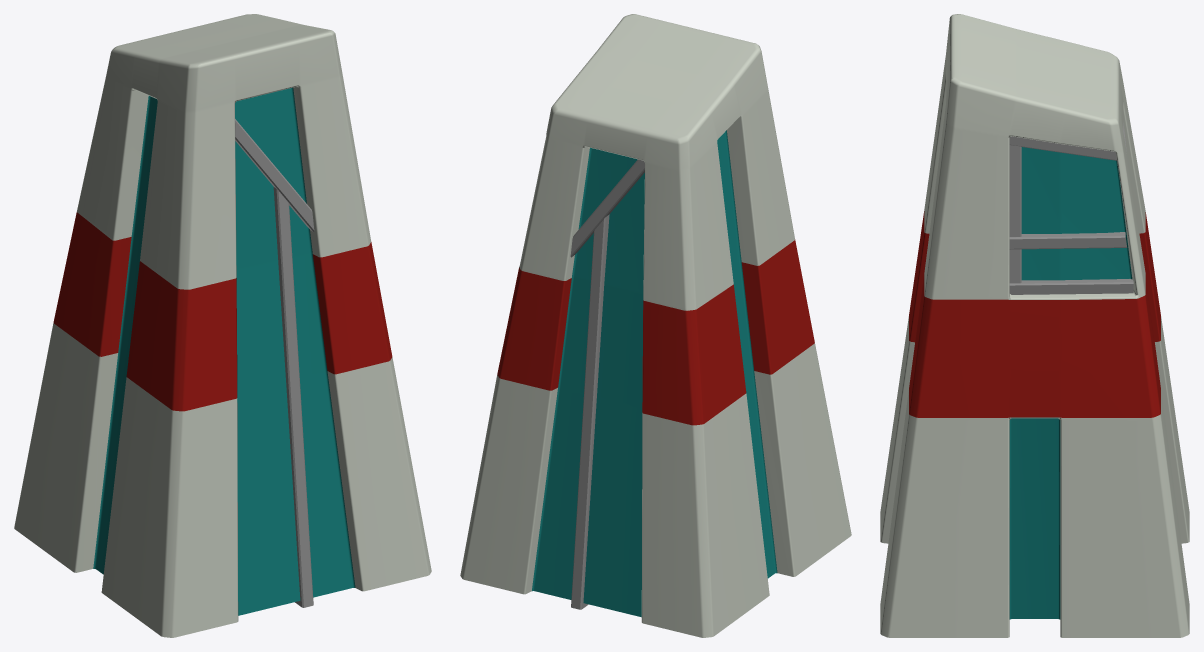
Rendered from SM_futuristic_tower_A.fbx.
The picture shows the model from 3 angles, left to right: view 1: azimuth 30°, elevation 25°; view 2: azimuth 150°, elevation 25°; view 3: azimuth 270°, elevation 25°; orthographic projection. The views are drawn at different scales.
Visible parts, largest first — view 1: SM_futuristic_tower; view 2: SM_futuristic_tower; view 3: SM_futuristic_tower.
Boxes of the visible parts, bbox=[...] form: SM_futuristic_tower: bbox=[14, 14, 431, 637]; SM_futuristic_tower: bbox=[460, 14, 851, 637]; SM_futuristic_tower: bbox=[880, 14, 1189, 637].
Bounding box in the file's own units: 857 × 1633 × 857.
